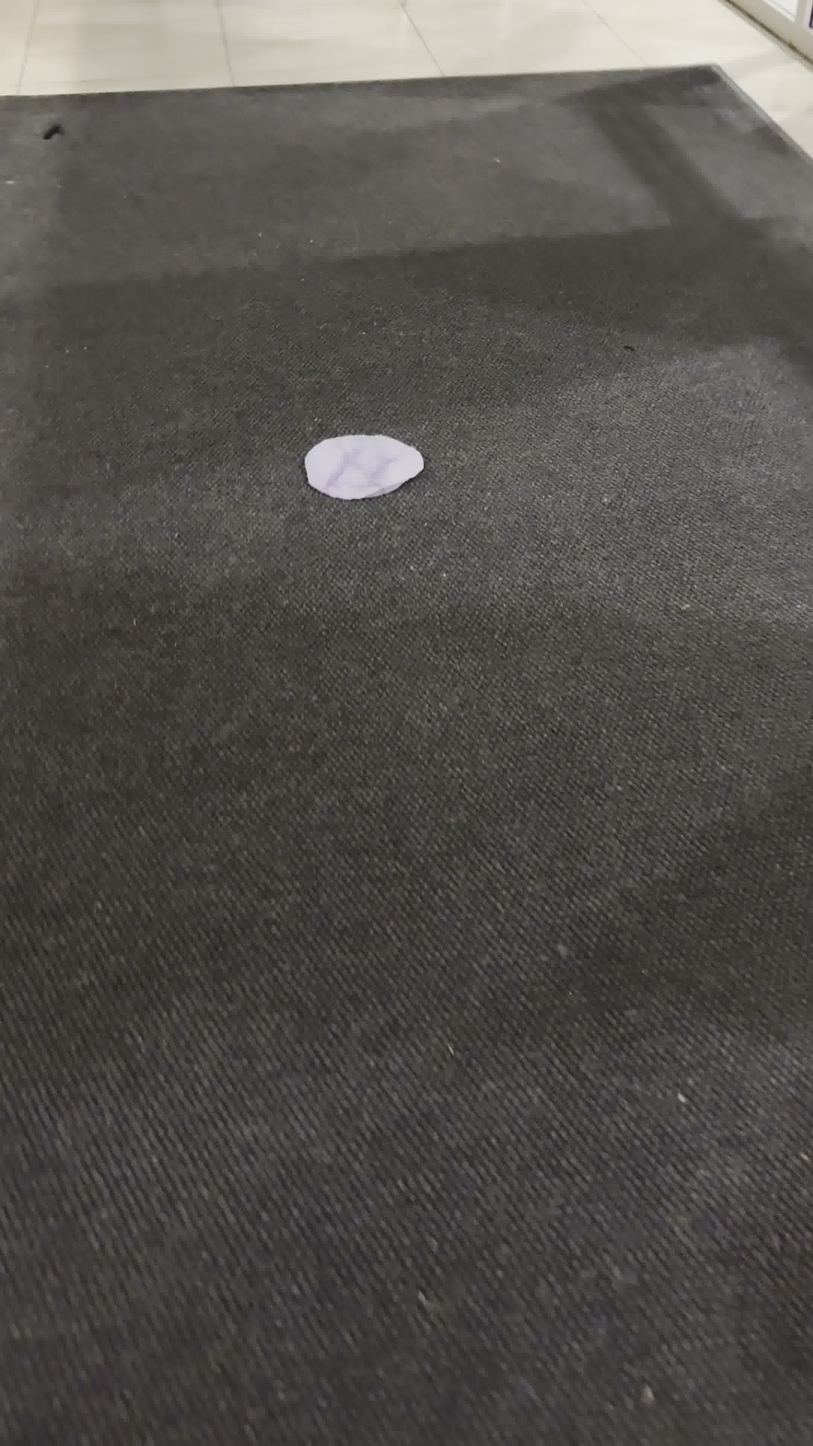Target: (305, 431, 427, 502)
